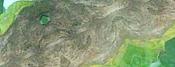Tomato mold leaf: (20, 0, 140, 67)
